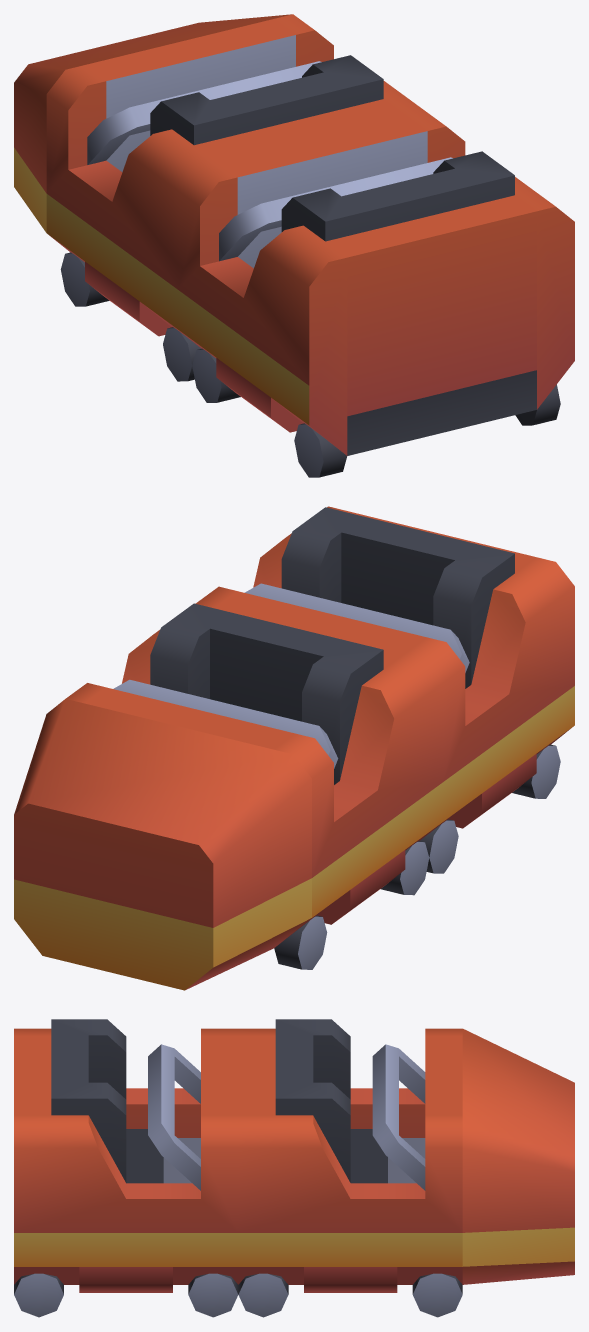
Rendered from coaster-train-front.glb.
The picture shows the model from 3 angles, top to bottom: view 1: azimuth 30°, elevation 25°; view 2: azimuth 150°, elevation 25°; view 3: azimuth 270°, elevation 25°; orthographic projection. The views are drawn at different scales.
Parts seen in each view (by area): view 1: coaster-train-front; view 2: coaster-train-front; view 3: coaster-train-front.
Boxes of the visible parts, x1,y1,x2,y2 form: coaster-train-front: [14, 14, 574, 477]; coaster-train-front: [14, 506, 574, 990]; coaster-train-front: [14, 1019, 574, 1317].
Size of the model in its own units: 0.7 by 0.617 by 1.5.
